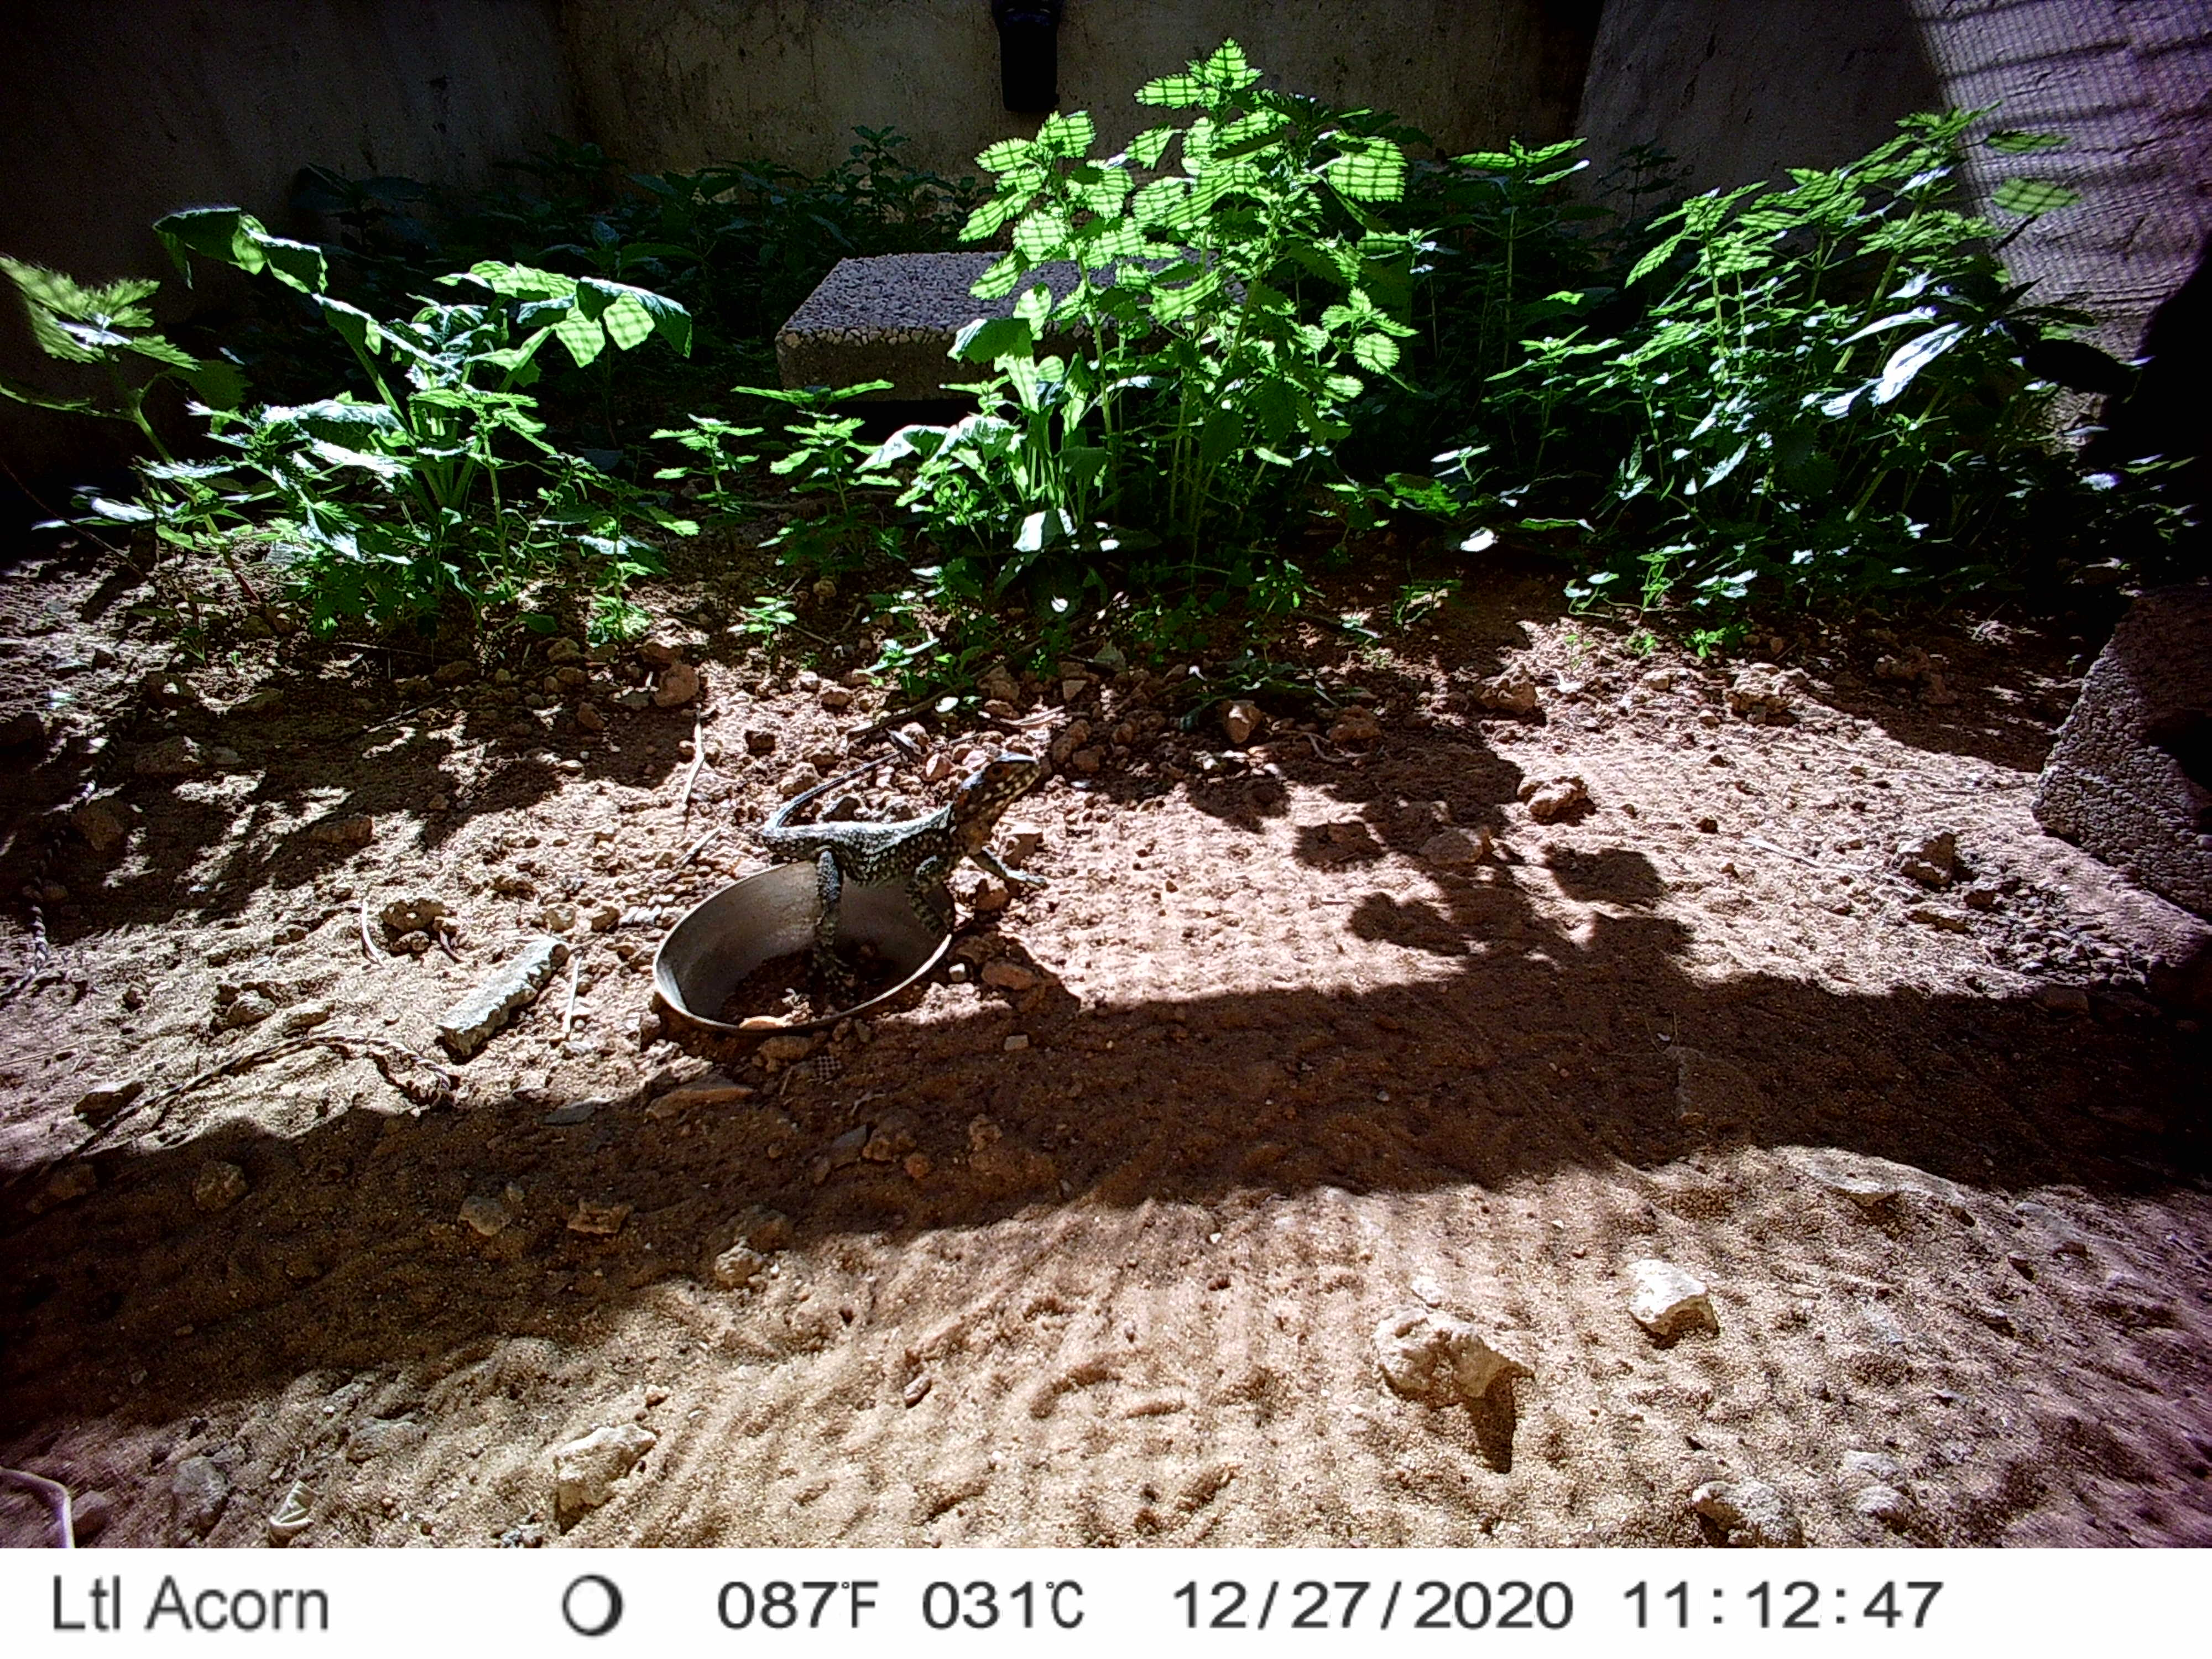lizard: (754, 746, 1049, 1007)
